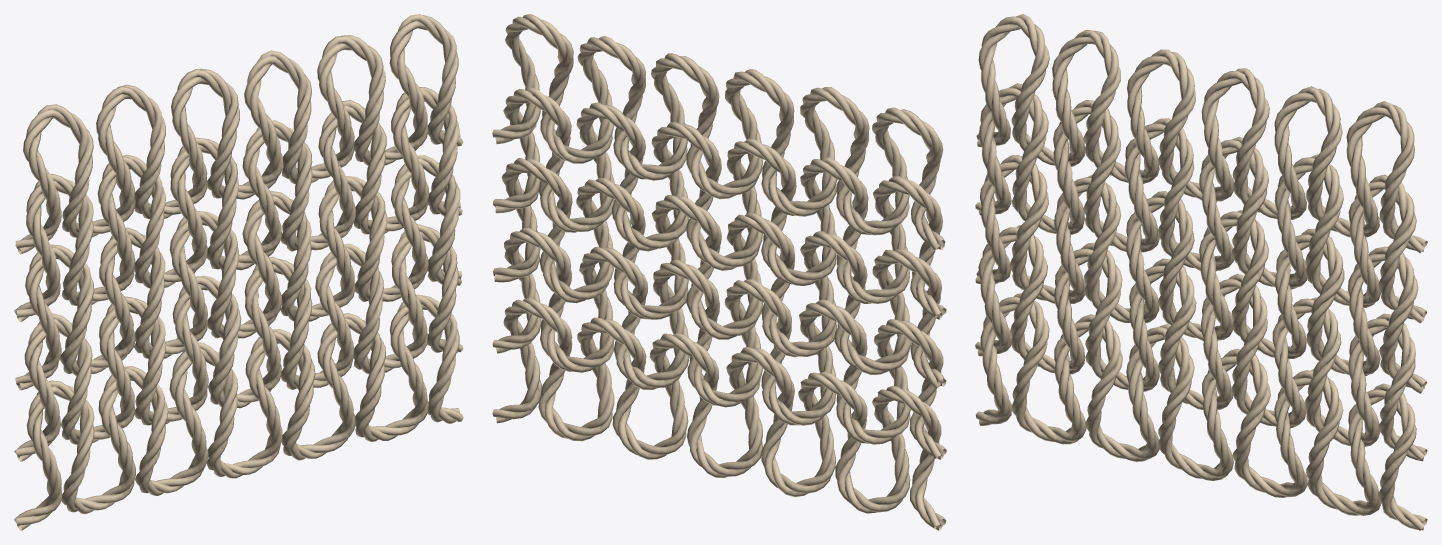
File: knit-lattice-v2.glb
3 views of the same model, side by side, from view 1: azimuth 30°, elevation 25°; view 2: azimuth 150°, elevation 25°; view 3: azimuth 330°, elevation 25° (orthographic).
Parts seen in each view (by area): view 1: course-5, course-1, course-4, course-3, course-2; view 2: course-5, course-1, course-4, course-2, course-3; view 3: course-5, course-1, course-4, course-3, course-2.
Boxes of the visible parts, x1,y1,x2,y2 form: course-5: (15, 14, 463, 254); course-1: (14, 294, 463, 530); course-4: (14, 87, 462, 322); course-3: (15, 155, 462, 390); course-2: (14, 224, 463, 461); course-5: (492, 14, 945, 250); course-1: (492, 298, 946, 530); course-4: (493, 87, 946, 319); course-2: (492, 228, 946, 459); course-3: (492, 158, 946, 389); course-5: (976, 14, 1427, 253); course-1: (975, 293, 1427, 530); course-4: (975, 83, 1426, 323); course-3: (975, 155, 1426, 393); course-2: (975, 225, 1427, 461).
Bounding box in the file's own units: 6.09 × 5.42 × 0.5523.
